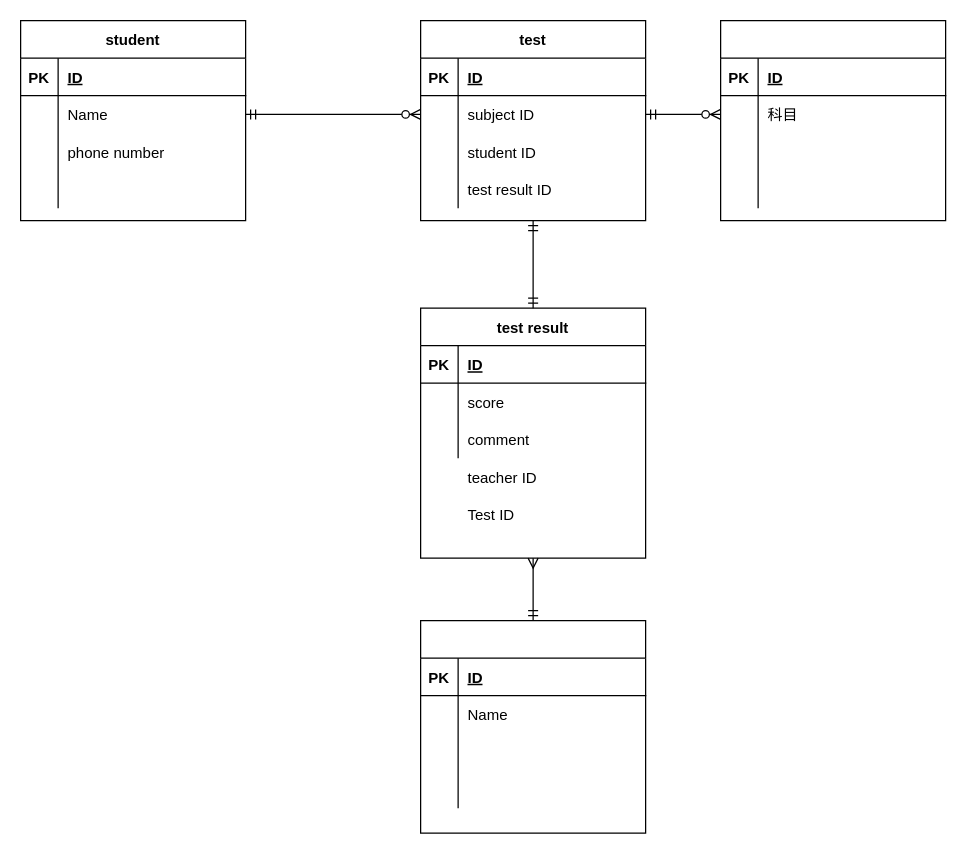
The diagram is 966 pixels wide and 854 high, and some of its shapes have lost their labels. The shapes that lost their labels are listed below. From the top down, each one's box as (x1, y1, x2, y2) in pixels, then its label:
(719, 19, 946, 221): Subject
(419, 619, 646, 833): teacher
